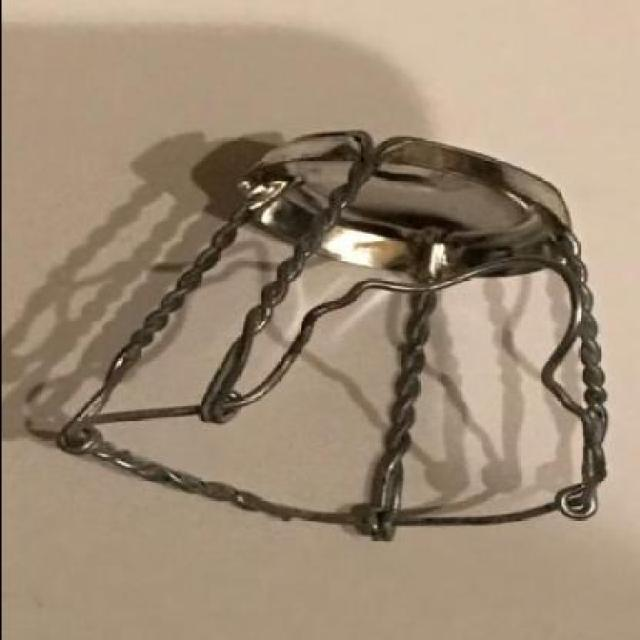METAL: (57, 129, 608, 542)
